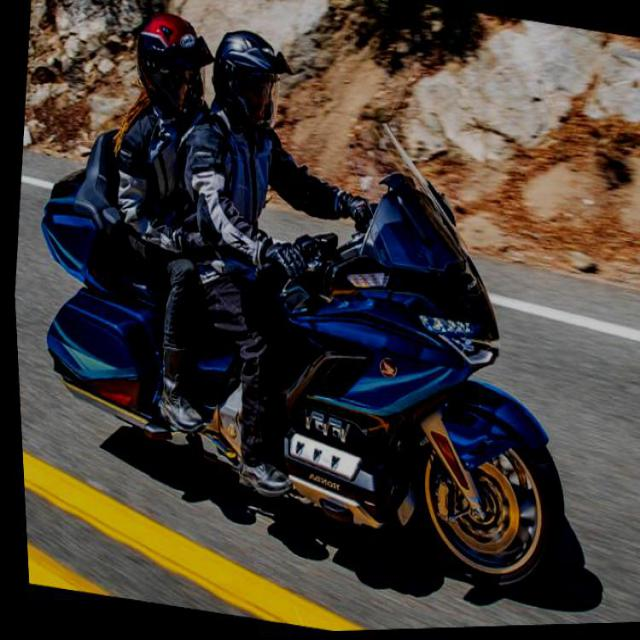Gold Wing: (3, 55, 602, 617)
